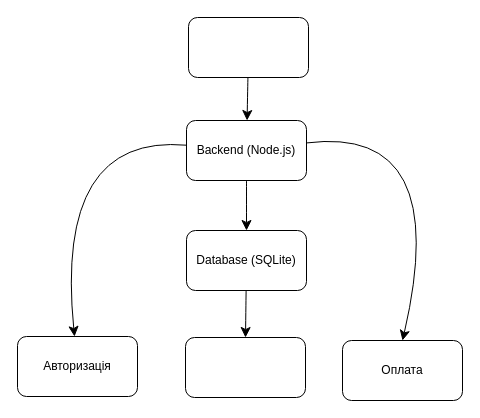
Some shapes in this 480 by 418 pixel diagram are drawn without their labels. Here are the shapes that lost their labels. From the top down, the centre of each, then its label:
the point at 248,47: Client (браузер)
the point at 245,367: Сповіщення
